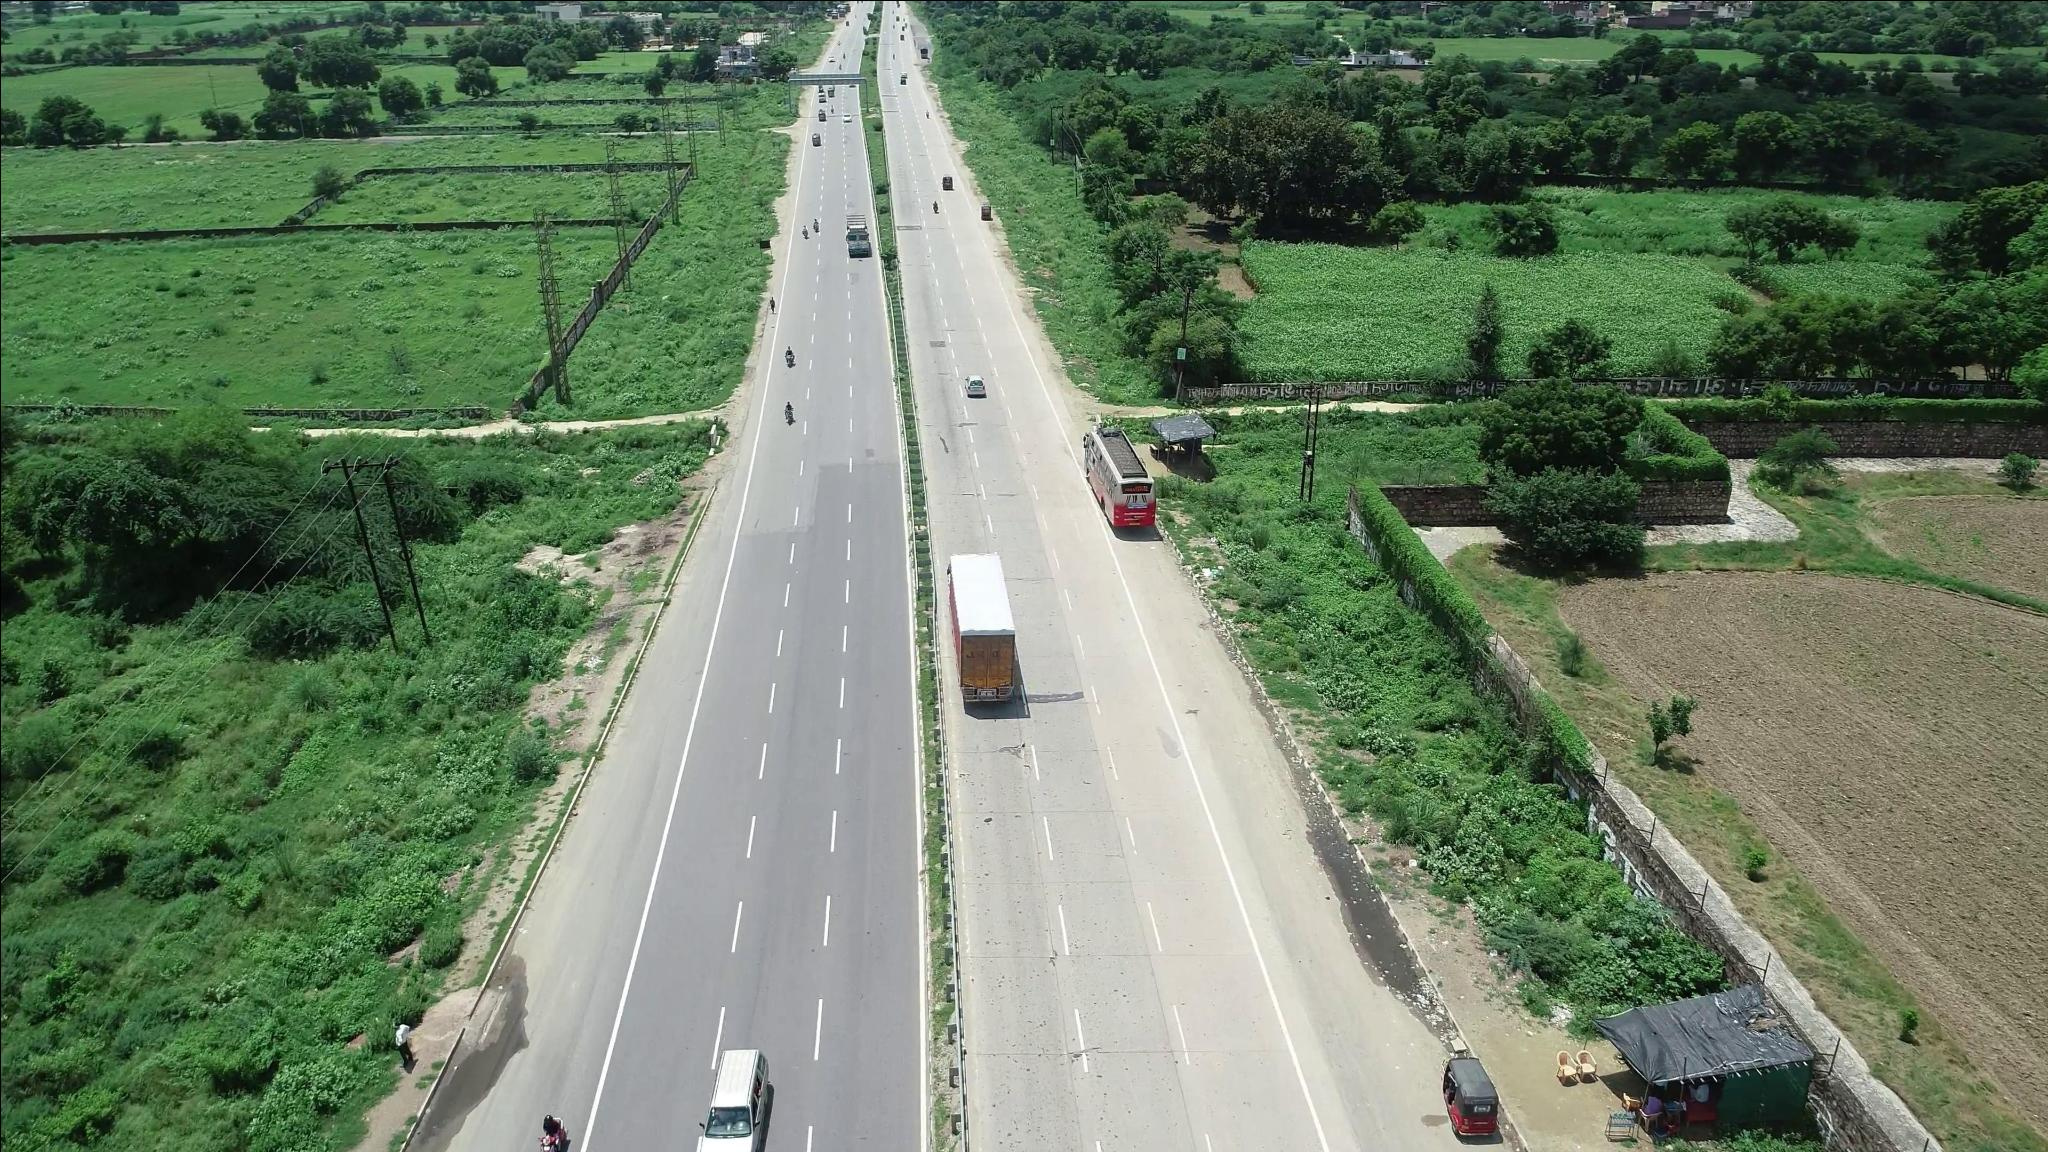Waterlogging: (1326, 869, 1421, 999)
